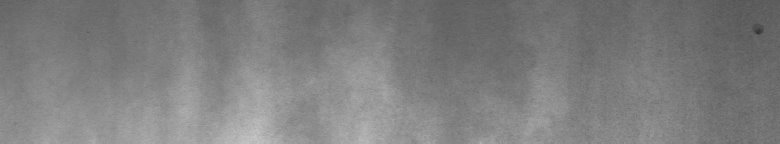fi: (748, 18, 764, 42)
